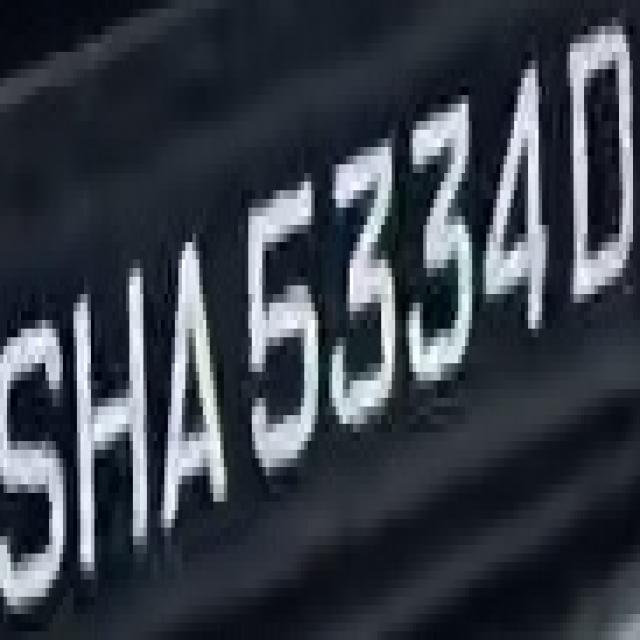3: (392, 95, 489, 415), (318, 112, 409, 450)
4: (469, 52, 556, 354)
5: (224, 164, 332, 493)
A: (154, 182, 234, 562)
D: (566, 0, 640, 320)
H: (70, 242, 161, 597)
S: (7, 268, 66, 640)
